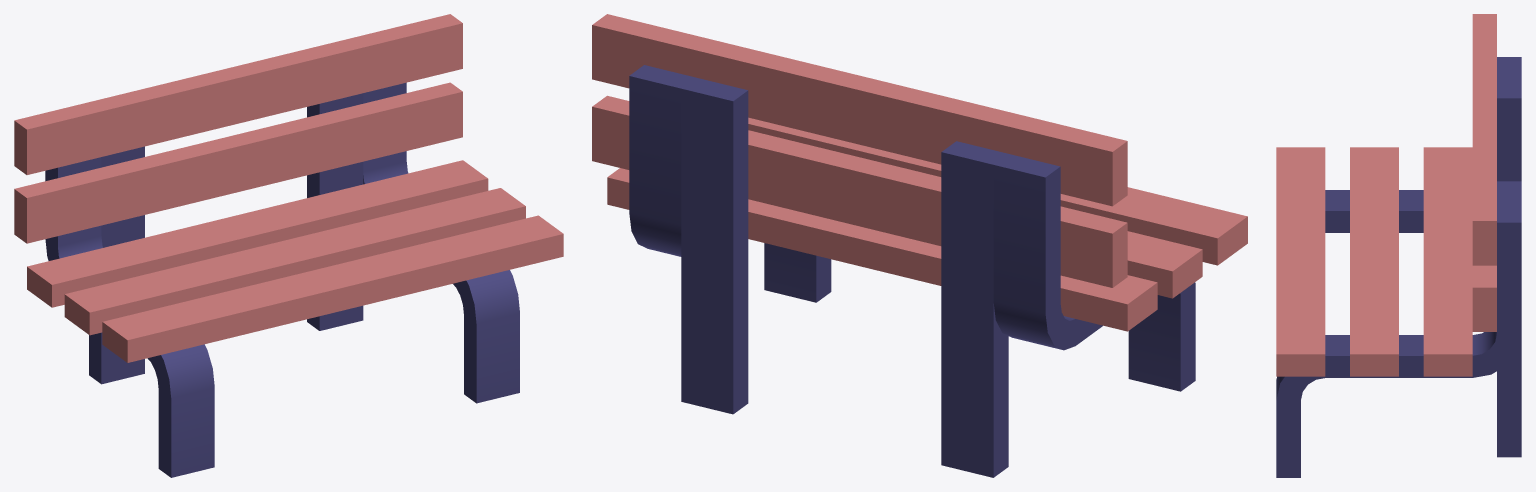
Rendered from Bench.glb.
3 views of the same model, side by side, from view 1: azimuth 30°, elevation 25°; view 2: azimuth 150°, elevation 25°; view 3: azimuth 270°, elevation 25° (orthographic). The views are drawn at different scales.
Visible parts, largest first — view 1: Cube; view 2: Cube; view 3: Cube.
Part boxes in pixels (box(x1,y1,x2,y2)): Cube: box(14, 14, 563, 477); Cube: box(592, 14, 1247, 477); Cube: box(1276, 14, 1521, 477).
Size of the model in its own units: 2 by 1.25 by 1.
